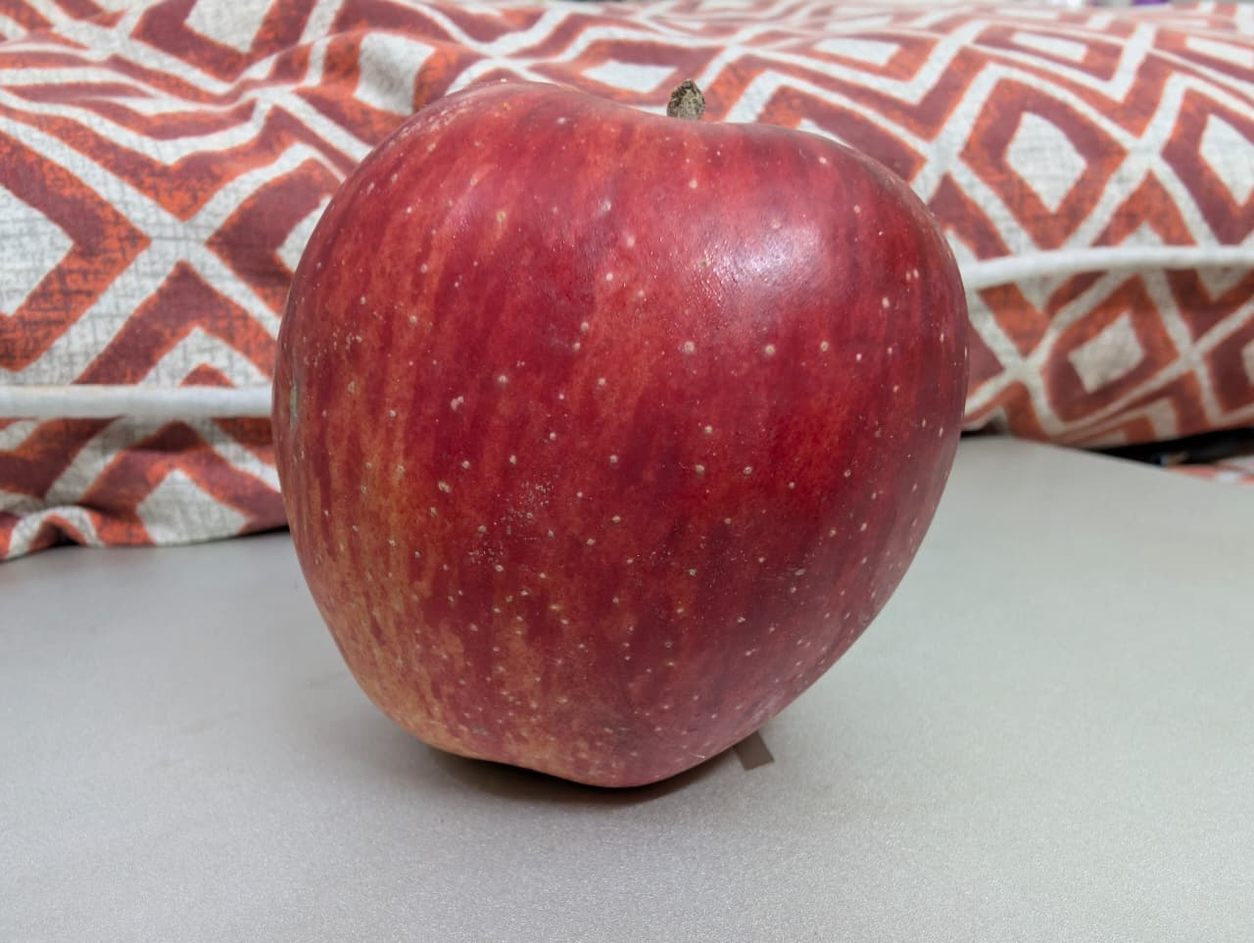apple: (130, 105, 1049, 943)
